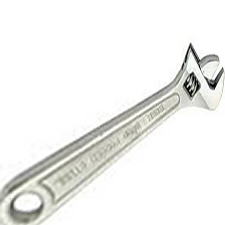Wrench: (4, 35, 225, 217)
